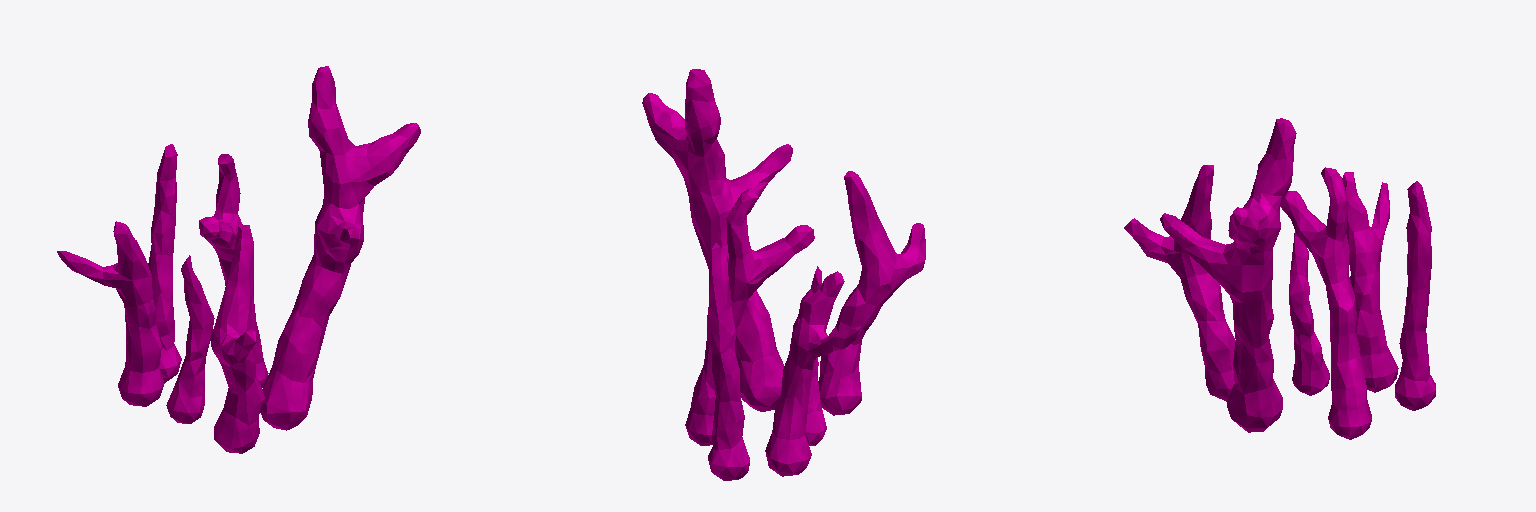
3 renders of one model, left to right at view 1: azimuth 30°, elevation 25°; view 2: azimuth 150°, elevation 25°; view 3: azimuth 270°, elevation 25°, orthographic.
Visible parts, largest first — view 1: Coral3; view 2: Coral3; view 3: Coral3.
Boxes of the visible parts, <box> form: Coral3: <box>57,66,420,453</box>; Coral3: <box>642,69,925,480</box>; Coral3: <box>1124,118,1435,439</box>.
Size of the model in its own units: 0.82 by 0.9129 by 0.7631.
1 materials, 1 textured.